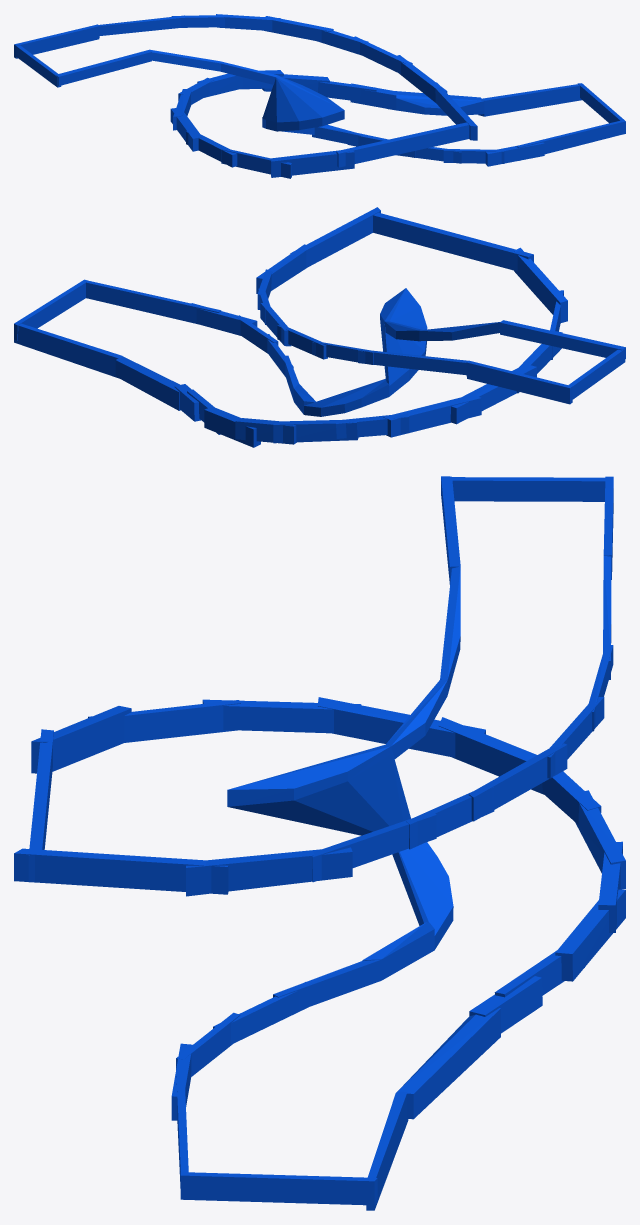
The model's file is 9_holes_hole_7_walls.glb.
3 renders of one model, top to bottom at view 1: azimuth 30°, elevation 25°; view 2: azimuth 150°, elevation 25°; view 3: azimuth 270°, elevation 25°, orthographic. The views are drawn at different scales.
Parts seen in each view (by area): view 1: Hole 7 walls.001, Hole 7 walls.015, Hole 7 walls.028, Hole 7 walls.016, Hole 7 walls.027, Hole 7 walls.030, Hole 7 walls.006, Hole 7 walls.004, Hole 7 walls.007, Hole 7 walls.010, Hole 7 walls.031, Hole 7 walls.017 (+23 smaller); view 2: Hole 7 walls.015, Hole 7 walls.001, Hole 7 walls.028, Hole 7 walls.030, Hole 7 walls.006, Hole 7 walls.004, Hole 7 walls.020, Hole 7 walls.014, Hole 7 walls.036, Hole 7 walls.027, Hole 7 walls.007, Hole 7 walls.016 (+19 smaller); view 3: Hole 7 walls.001, Hole 7 walls.014, Hole 7 walls.029, Hole 7 walls.013, Hole 7 walls.027, Hole 7 walls.005, Hole 7 walls.036, Hole 7 walls.019, Hole 7 walls.018, Hole 7 walls.016, Hole 7 walls.017, Hole 7 walls.012 (+20 smaller).
Part boxes in pixels (x1,y1,x2,y2): Hole 7 walls.001: [262, 75, 344, 131]; Hole 7 walls.015: [336, 122, 469, 167]; Hole 7 walls.028: [478, 84, 582, 116]; Hole 7 walls.016: [271, 149, 354, 177]; Hole 7 walls.027: [388, 91, 484, 115]; Hole 7 walls.030: [516, 120, 622, 160]; Hole 7 walls.006: [14, 24, 99, 58]; Hole 7 walls.004: [56, 50, 151, 86]; Hole 7 walls.007: [99, 15, 184, 36]; Hole 7 walls.010: [264, 16, 333, 41]; Hole 7 walls.031: [485, 142, 544, 166]; Hole 7 walls.017: [221, 148, 291, 178]; Hole 7 walls.015: [373, 212, 533, 271]; Hole 7 walls.001: [380, 288, 427, 396]; Hole 7 walls.028: [14, 323, 122, 378]; Hole 7 walls.030: [86, 281, 221, 323]; Hole 7 walls.006: [466, 360, 572, 404]; Hole 7 walls.004: [499, 320, 625, 358]; Hole 7 walls.020: [383, 394, 481, 437]; Hole 7 walls.014: [290, 207, 380, 267]; Hole 7 walls.036: [304, 379, 389, 416]; Hole 7 walls.027: [115, 356, 180, 410]; Hole 7 walls.007: [358, 350, 468, 375]; Hole 7 walls.016: [514, 247, 567, 322]; Hole 7 walls.001: [227, 744, 410, 835]; Hole 7 walls.014: [14, 848, 228, 894]; Hole 7 walls.029: [180, 1172, 377, 1205]; Hole 7 walls.013: [186, 847, 352, 896]; Hole 7 walls.027: [396, 1008, 500, 1119]; Hole 7 walls.005: [452, 477, 605, 501]; Hole 7 walls.036: [392, 842, 453, 949]; Hole 7 walls.019: [317, 697, 485, 757]; Hole 7 walls.018: [202, 699, 361, 733]; Hole 7 walls.016: [31, 706, 131, 773]; Hole 7 walls.017: [88, 700, 240, 742]; Hole 7 walls.012: [312, 811, 436, 882].
Bounding box in the file's own units: 39.03 × 9.76 × 21.1.
